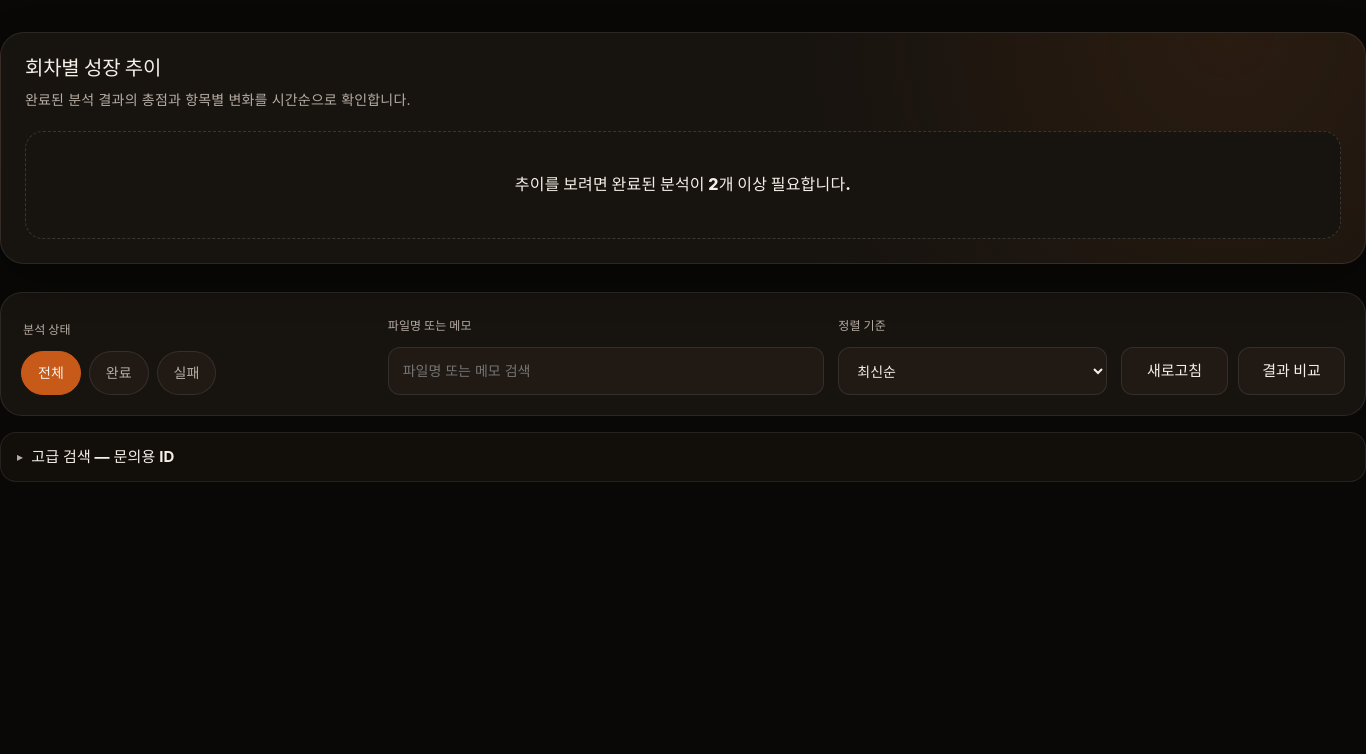
ResultListPage › shows an unavailable score as neutral and keeps it last for score sorting
(page scrolled)
Select "점수 낮은순" in the dropdown at (973, 371), box [838,347,1107,395]
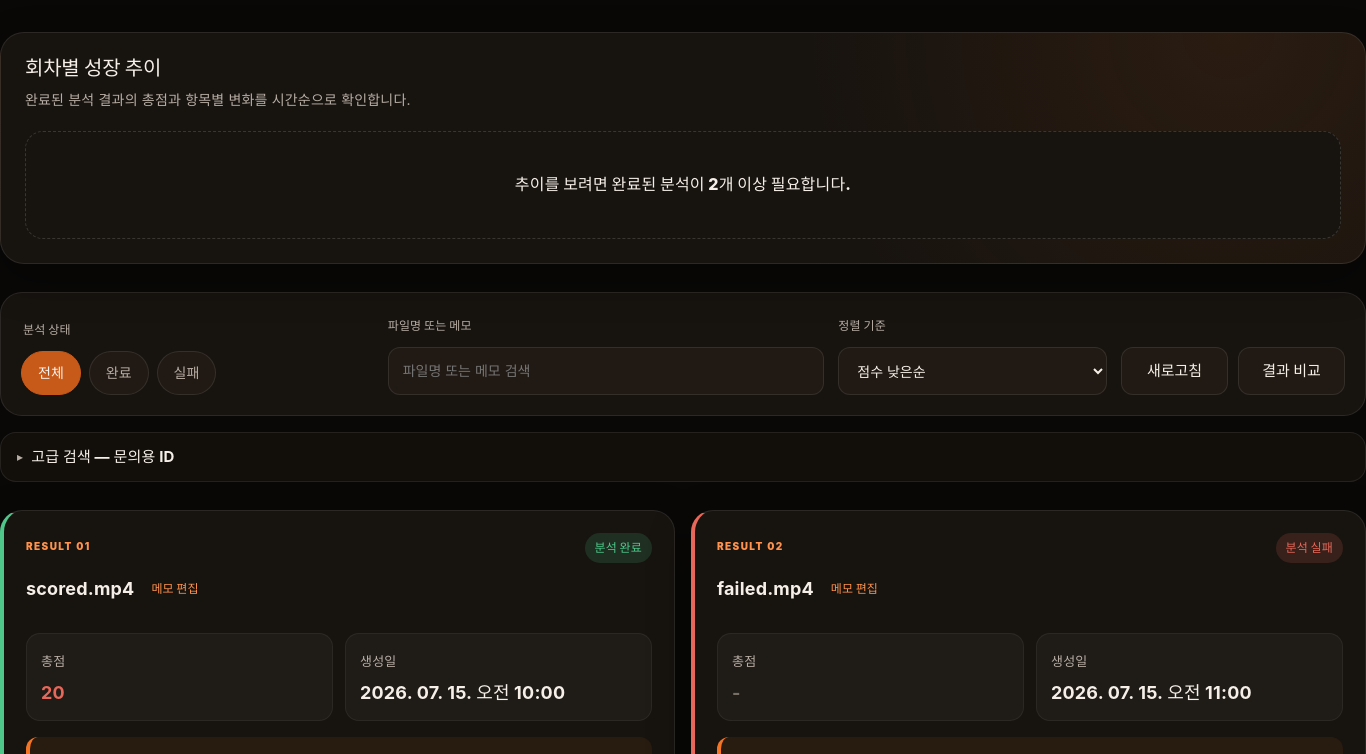
Now the heading "scored.mp4" is shown, box [26,576,134,602]
Now the heading "failed.mp4" is shown, box [717,576,814,602]
